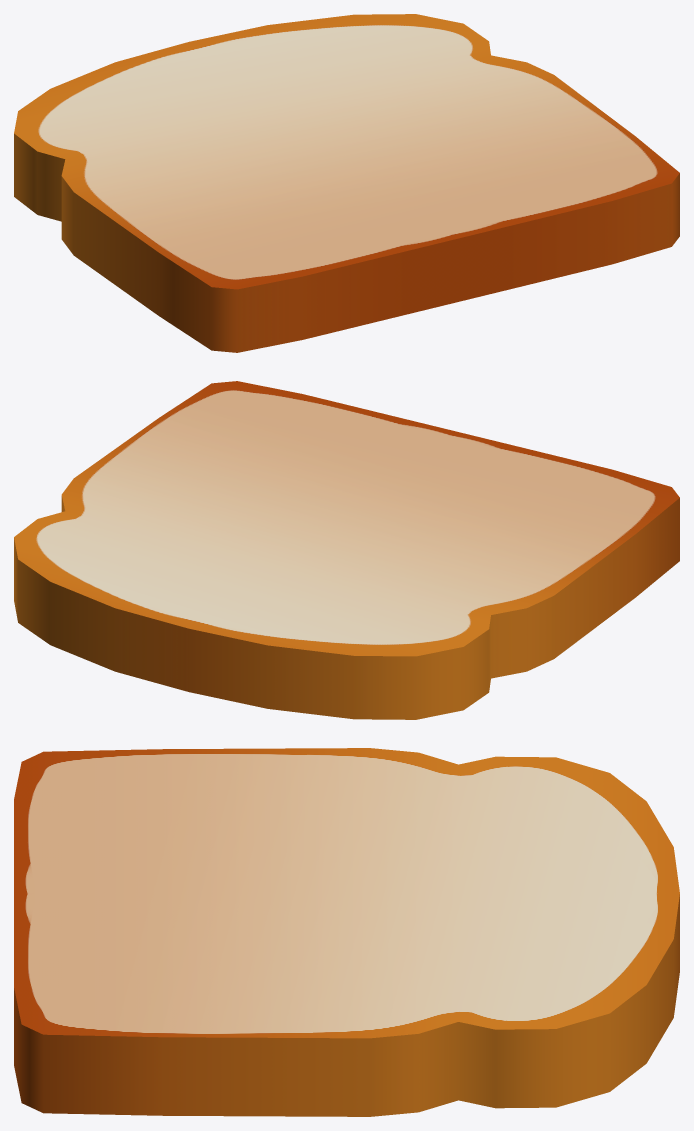
The model's file is Bread_Slice.fbx.
The picture shows the model from 3 angles, top to bottom: view 1: azimuth 30°, elevation 25°; view 2: azimuth 150°, elevation 25°; view 3: azimuth 270°, elevation 25°; orthographic projection. The views are drawn at different scales.
Parts seen in each view (by area): view 1: Bread_Slice; view 2: Bread_Slice; view 3: Bread_Slice.
Part boxes in pixels (x1,y1,x2,y2): Bread_Slice: [14, 14, 679, 352]; Bread_Slice: [14, 381, 679, 719]; Bread_Slice: [14, 748, 679, 1116].
Size of the model in its own units: 47.2 by 5.96 by 45.76.
1 material, 1 textured.
